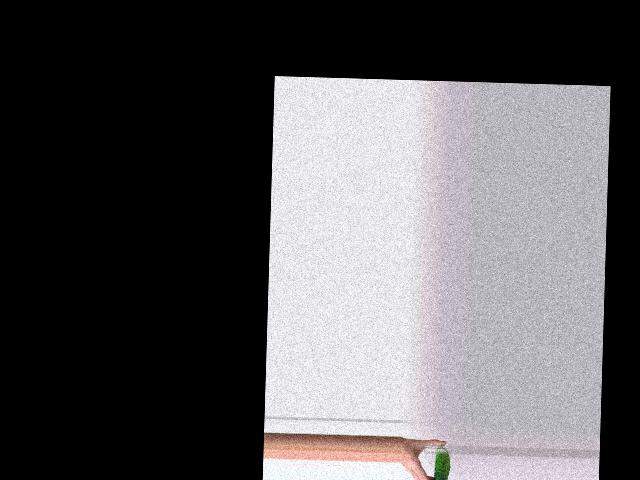cucumber: (434, 444, 451, 480)
